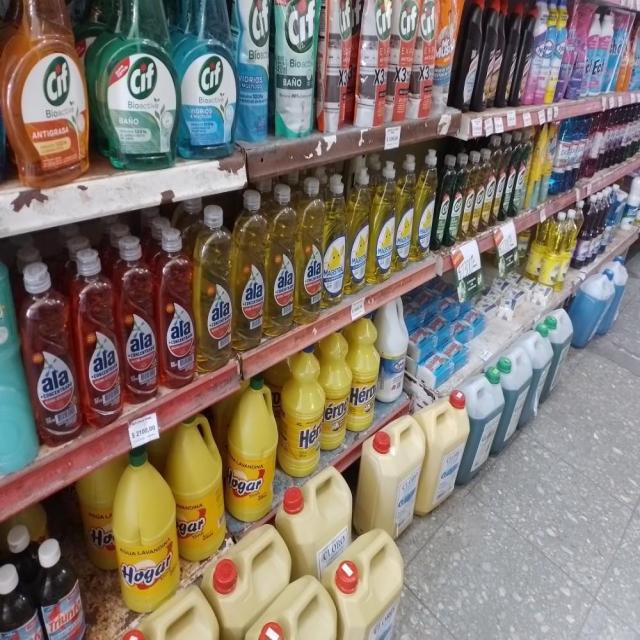ala_conc_amarillo: (196, 204, 232, 372), (234, 189, 266, 349), (268, 184, 296, 336), (297, 177, 322, 321)
ala_conc_rojo: (25, 262, 77, 451), (78, 250, 120, 430), (158, 228, 196, 390), (120, 237, 156, 406)
cif_conc_bot_amarilla: (463, 150, 475, 241), (484, 145, 496, 230), (497, 136, 508, 224), (474, 150, 485, 236)
cif_conc_botella_verde: (437, 153, 451, 249), (450, 152, 462, 246)
magistral_con_amarillo: (370, 159, 395, 283), (323, 174, 346, 306), (348, 165, 370, 294), (415, 150, 436, 260), (396, 154, 414, 272)
